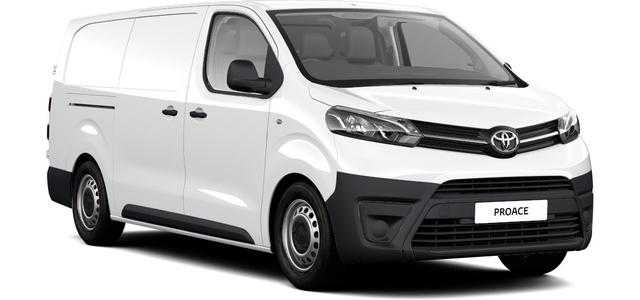van: (47, 1, 593, 292)
